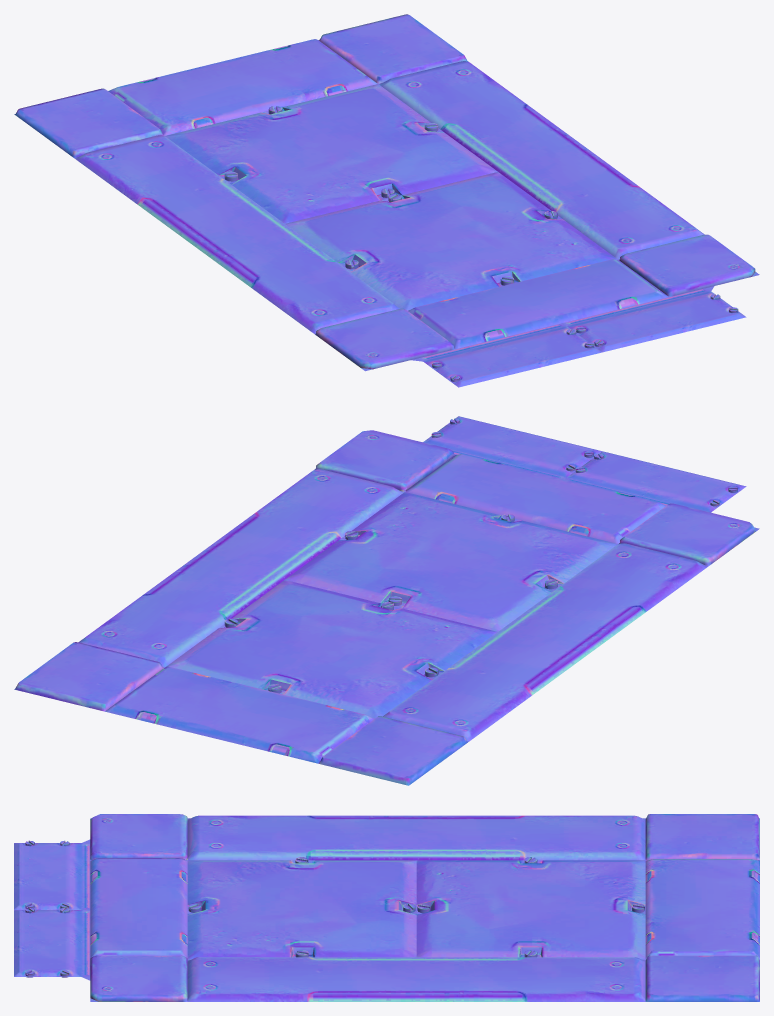
File: Building_A_Staircase_B_Floor_A.fbx
3 renders of one model, top to bottom at view 1: azimuth 30°, elevation 25°; view 2: azimuth 150°, elevation 25°; view 3: azimuth 270°, elevation 25°, orthographic. The views are drawn at different scales.
Visible parts, largest first — view 1: Geom_Building_A_Staircase_B_Floor_A_LOD00; view 2: Geom_Building_A_Staircase_B_Floor_A_LOD00; view 3: Geom_Building_A_Staircase_B_Floor_A_LOD00.
Boxes of the visible parts, x1,y1,x2,y2 form: Geom_Building_A_Staircase_B_Floor_A_LOD00: (14,14,759,387); Geom_Building_A_Staircase_B_Floor_A_LOD00: (14,416,759,785); Geom_Building_A_Staircase_B_Floor_A_LOD00: (14,814,759,1001).
Size of what is drawn, in the model's own units: 740 by 12.08 by 1270.
